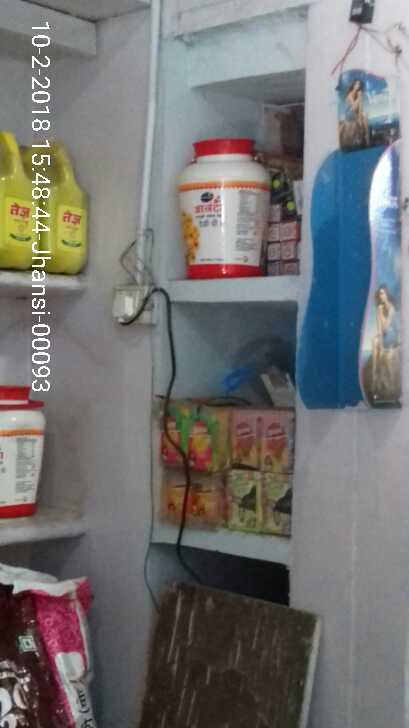reject: (286, 224, 364, 406)
